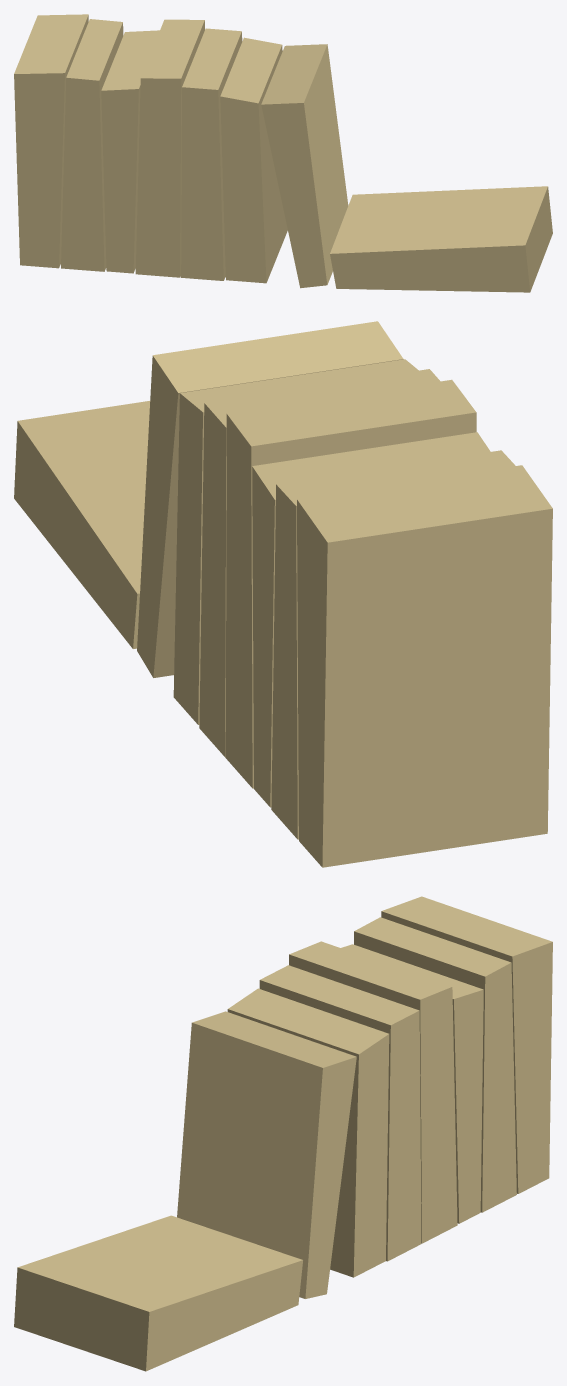
File: books.fbx
3 views of the same model, one above another, from view 1: azimuth 30°, elevation 25°; view 2: azimuth 150°, elevation 25°; view 3: azimuth 270°, elevation 25° (orthographic). The views are drawn at different scales.
Visible parts, largest first — view 1: books_low1; view 2: books_low1; view 3: books_low1.
Boxes of the visible parts, left/top/right/bottom form: books_low1: left=14, top=14, right=552, bottom=292; books_low1: left=14, top=321, right=552, bottom=867; books_low1: left=14, top=896, right=552, bottom=1371.
Size of the model in its own units: 85.13 by 38.56 by 76.27.
